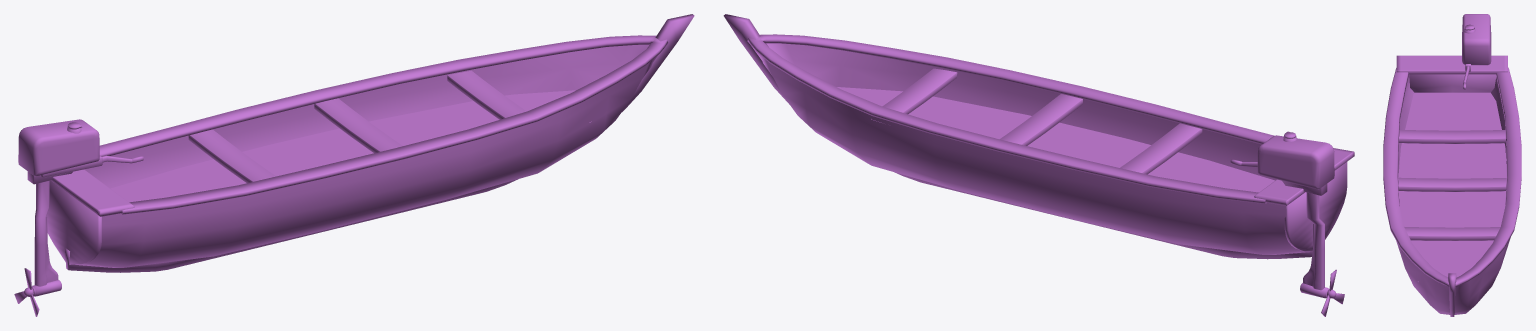
File: lo_Prop_Boat_A.fbx
3 renders of one model, left to right at view 1: azimuth 30°, elevation 25°; view 2: azimuth 150°, elevation 25°; view 3: azimuth 270°, elevation 25°, orthographic. The views are drawn at different scales.
Visible parts, largest first — view 1: lo_Prop_Boat_A_LOD0; view 2: lo_Prop_Boat_A_LOD0; view 3: lo_Prop_Boat_A_LOD0.
Boxes of the visible parts, bbox=[...] form: lo_Prop_Boat_A_LOD0: bbox=[14, 14, 694, 316]; lo_Prop_Boat_A_LOD0: bbox=[723, 14, 1354, 316]; lo_Prop_Boat_A_LOD0: bbox=[1383, 14, 1521, 316].
Size of what is drawn, in the model's own units: 11.1 by 2.82 by 2.6.
